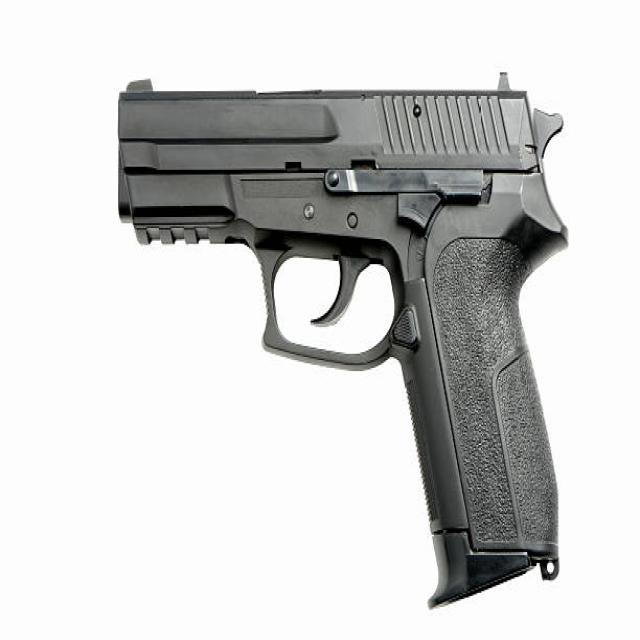pistol: (111, 57, 578, 617)
